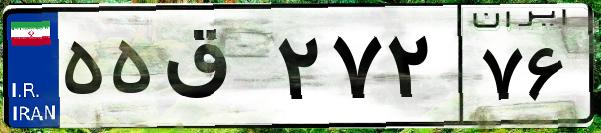2: (270, 28, 330, 110), (385, 28, 445, 110)
5: (57, 26, 110, 100), (110, 28, 158, 98)
6: (525, 38, 570, 115)
7: (330, 28, 385, 110), (475, 38, 525, 113)
ق: (158, 20, 270, 120)
